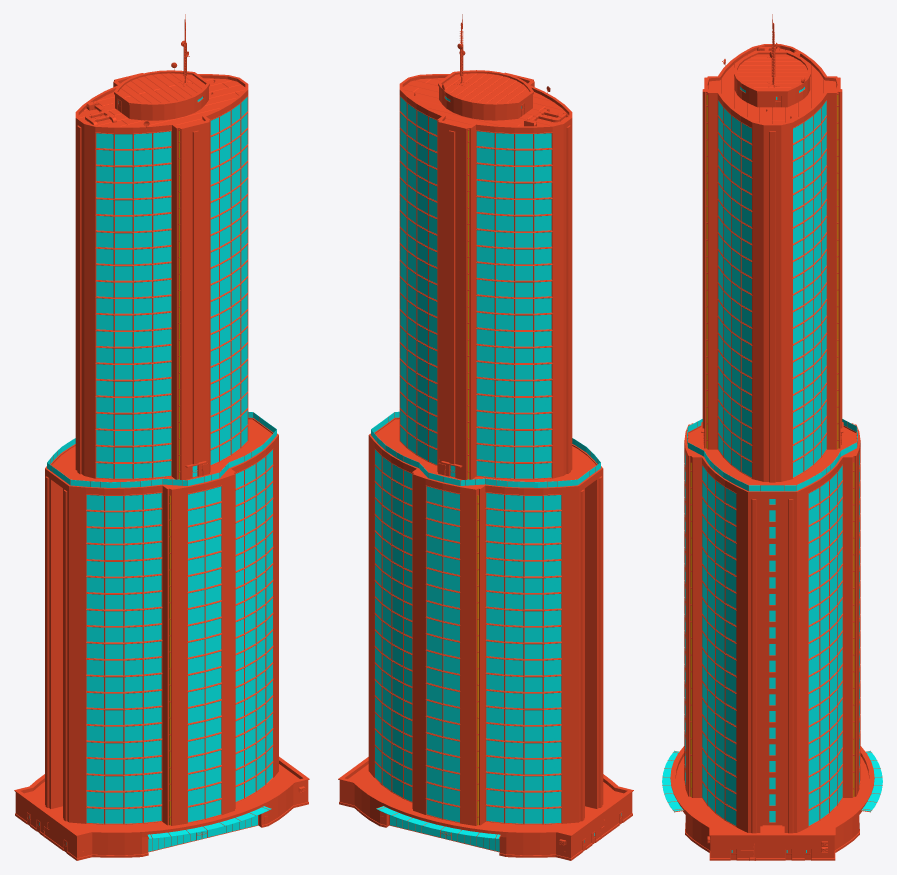
The model's file is SM_Skyscraper_F_City.fbx.
3 views of the same model, side by side, from view 1: azimuth 30°, elevation 25°; view 2: azimuth 150°, elevation 25°; view 3: azimuth 270°, elevation 25° (orthographic).
Visible parts, largest first — view 1: SM_Skyscraper_F_City; view 2: SM_Skyscraper_F_City; view 3: SM_Skyscraper_F_City.
Boxes of the visible parts, left/top/right/bottom form: SM_Skyscraper_F_City: left=14, top=14, right=309, bottom=860; SM_Skyscraper_F_City: left=338, top=14, right=633, bottom=860; SM_Skyscraper_F_City: left=662, top=14, right=882, bottom=860.
Bounding box in the file's own units: 44.74 × 144 × 35.95.
